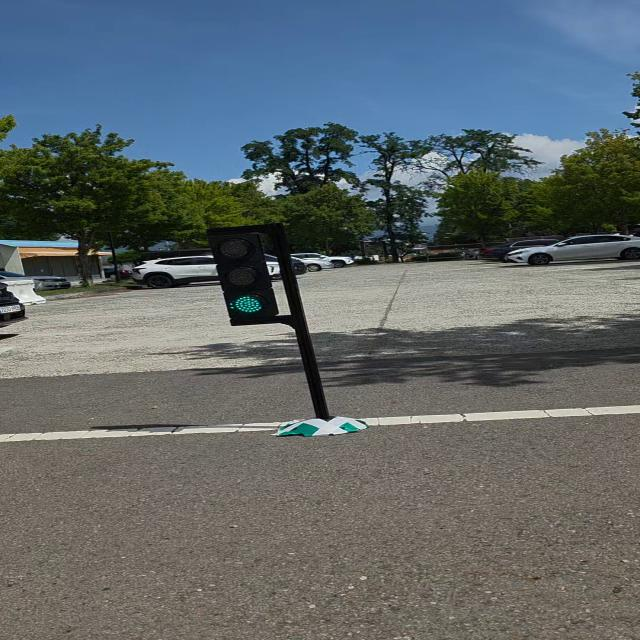green: (206, 230, 293, 322)
